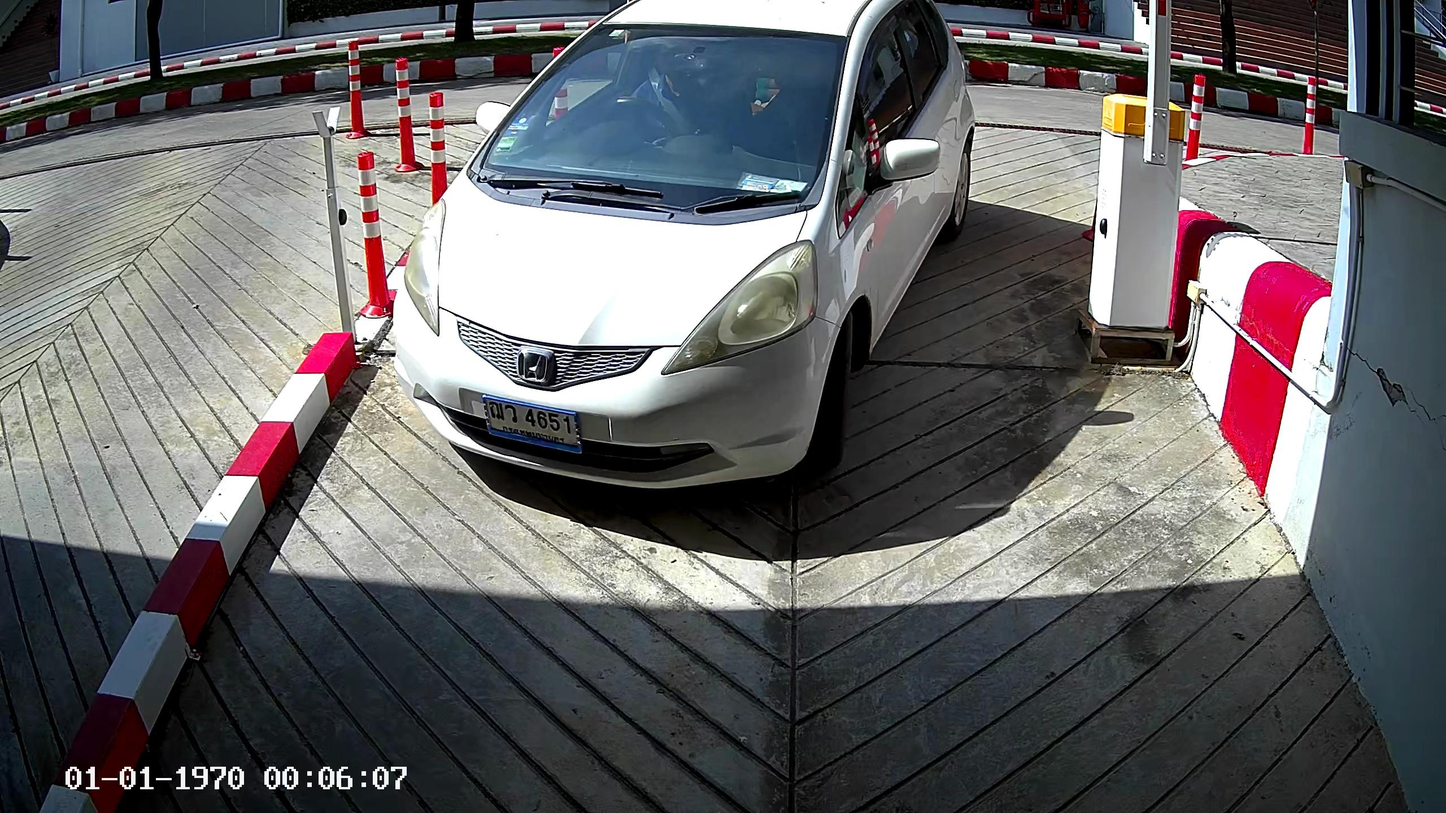car: (393, 2, 976, 497)
license-plate: (481, 394, 585, 459)
